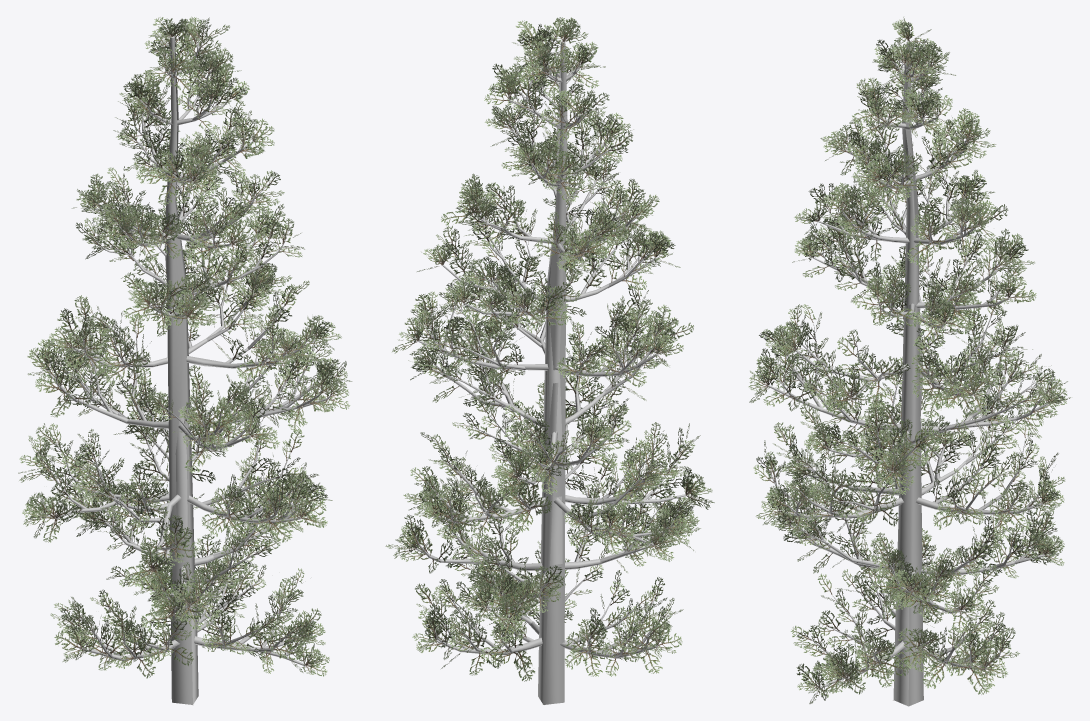
The model's file is StylizedSub10kPolyPine.fbx.
3 views of the same model, side by side, from view 1: azimuth 30°, elevation 25°; view 2: azimuth 150°, elevation 25°; view 3: azimuth 270°, elevation 25° (orthographic).
Parts seen in each view (by area): view 1: leaves.002, tree.003, tree.002; view 2: leaves.002, tree.003, tree.002; view 3: leaves.002, tree.003, tree.002.
Boxes of the visible parts, x1,y1,x2,y2 form: leaves.002: (18, 16, 352, 678); tree.003: (41, 36, 330, 704); tree.002: (175, 409, 198, 704); leaves.002: (385, 17, 714, 681); tree.003: (413, 41, 685, 704); tree.002: (538, 319, 562, 667); leaves.002: (748, 17, 1070, 703); tree.003: (768, 41, 1049, 706); tree.002: (893, 84, 923, 706).
Bounding box in the file's own units: 223 × 492 × 218.
